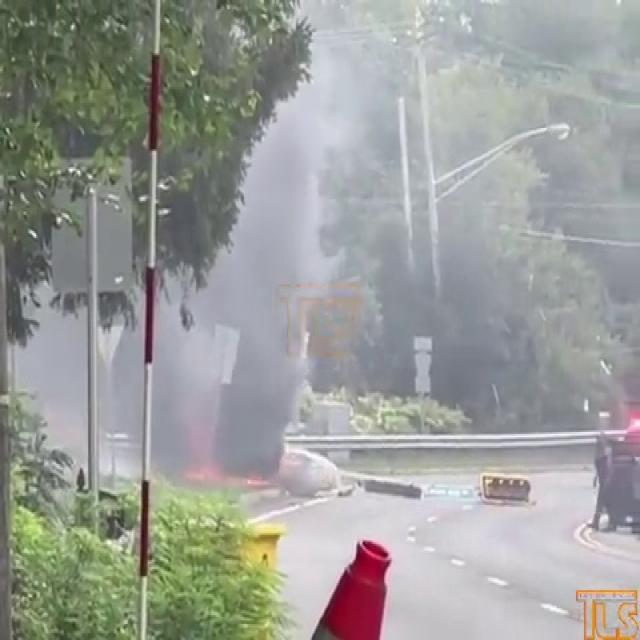Smoke: (135, 100, 323, 484)
